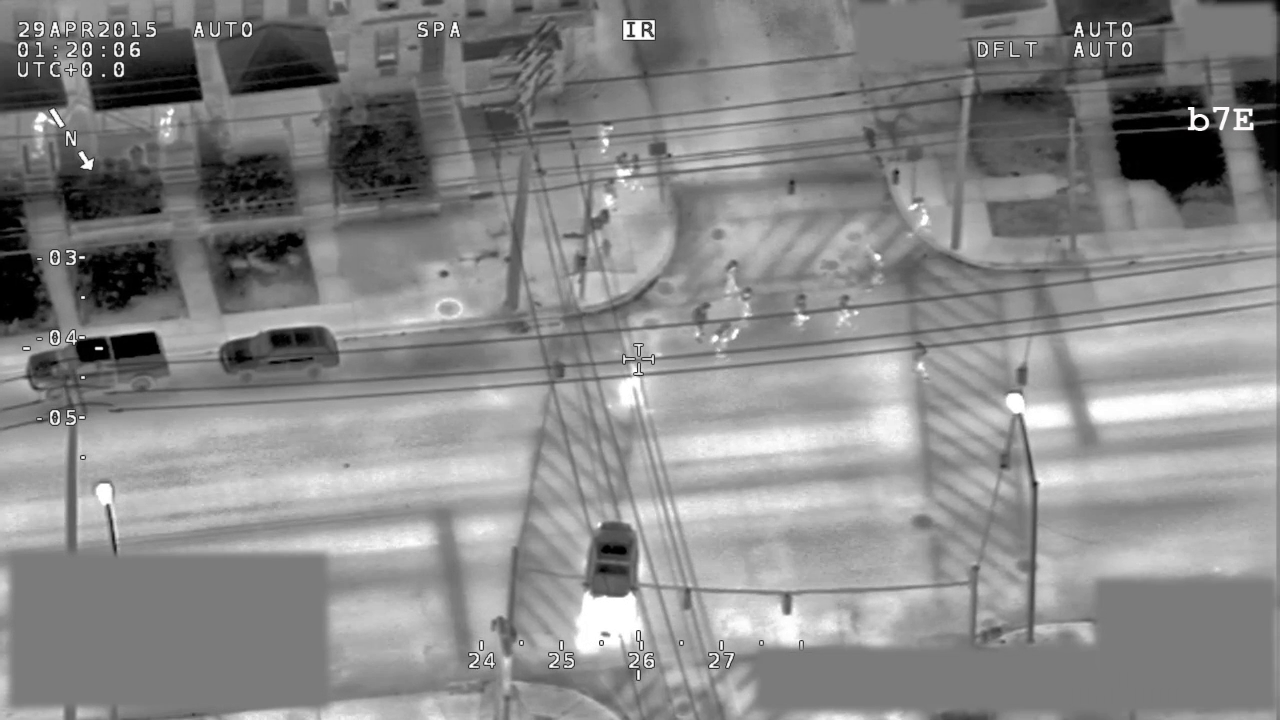vehicle: (21, 329, 172, 402), (578, 519, 641, 653), (212, 324, 343, 384)
